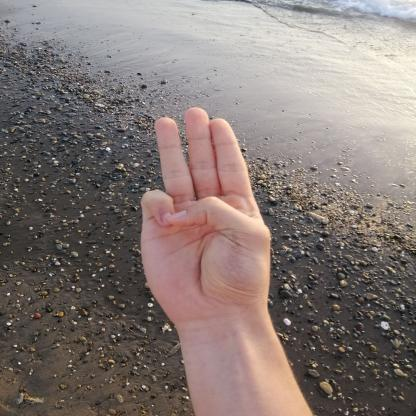THA: (119, 101, 298, 332)
